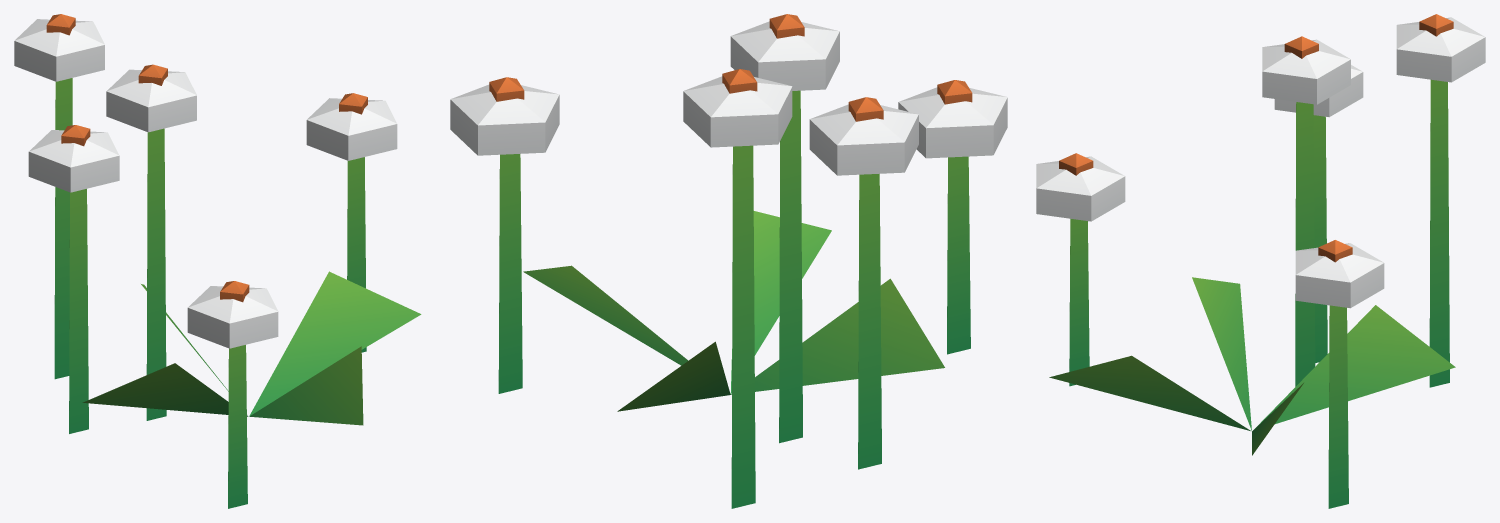
File: flowers_white.glb
3 views of the same model, side by side, from view 1: azimuth 30°, elevation 25°; view 2: azimuth 150°, elevation 25°; view 3: azimuth 270°, elevation 25° (orthographic). The views are drawn at different scales.
Parts seen in each view (by area): view 1: flowers_white; view 2: flowers_white; view 3: flowers_white.
Part boxes in pixels (<box>): flowers_white: <box>14,14,421,508</box>; flowers_white: <box>450,14,1007,508</box>; flowers_white: <box>1036,14,1485,508</box>.
Size of the model in its own units: 0.3825 by 0.359 by 0.3961.
1 material, 1 textured.
